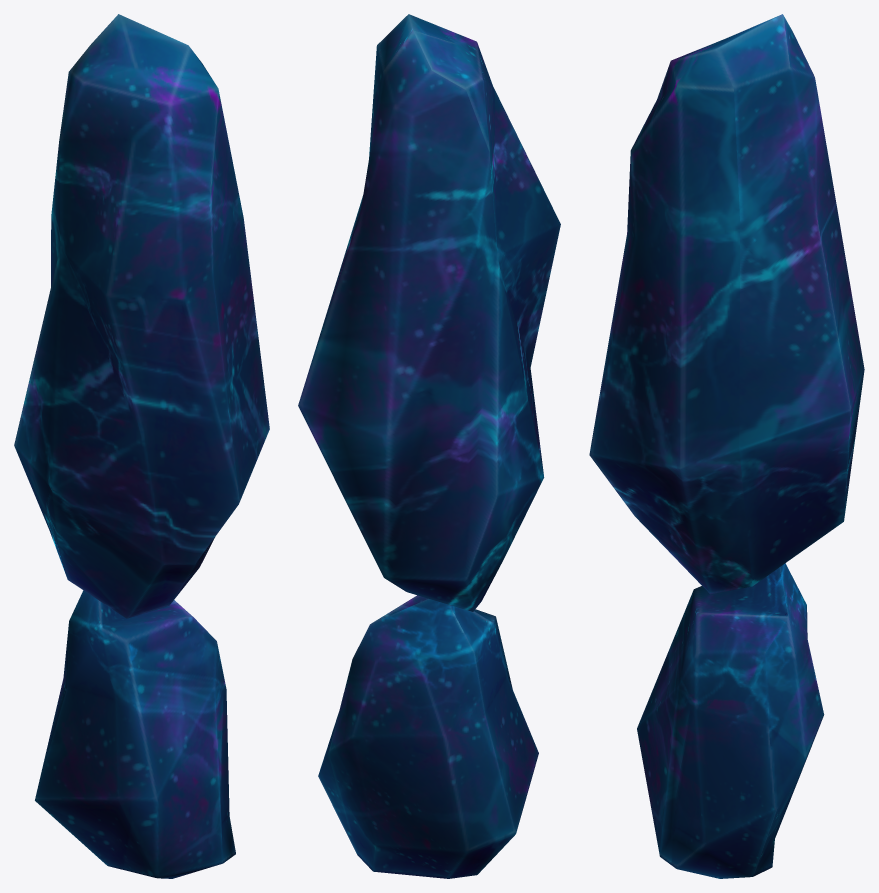
Rendered from Obelisk.fbx.
3 views of the same model, side by side, from view 1: azimuth 30°, elevation 25°; view 2: azimuth 150°, elevation 25°; view 3: azimuth 270°, elevation 25° (orthographic). The views are drawn at different scales.
Visible parts, largest first — view 1: Obelisk; view 2: Obelisk; view 3: Obelisk.
Part boxes in pixels (<box>): Obelisk: <box>14,14,269,878</box>; Obelisk: <box>298,14,560,878</box>; Obelisk: <box>589,14,864,878</box>.
Size of the model in its own units: 33.14 by 134 by 39.85.
Materials: 1 (1 with a texture image).
